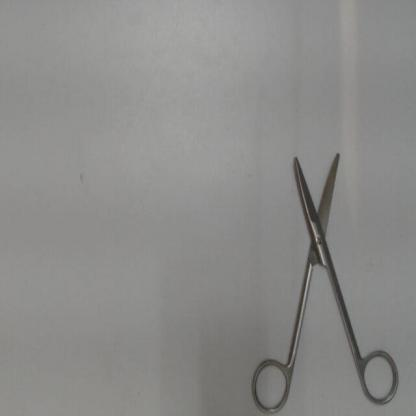Curved Mayo Scissors: (246, 145, 403, 414)
